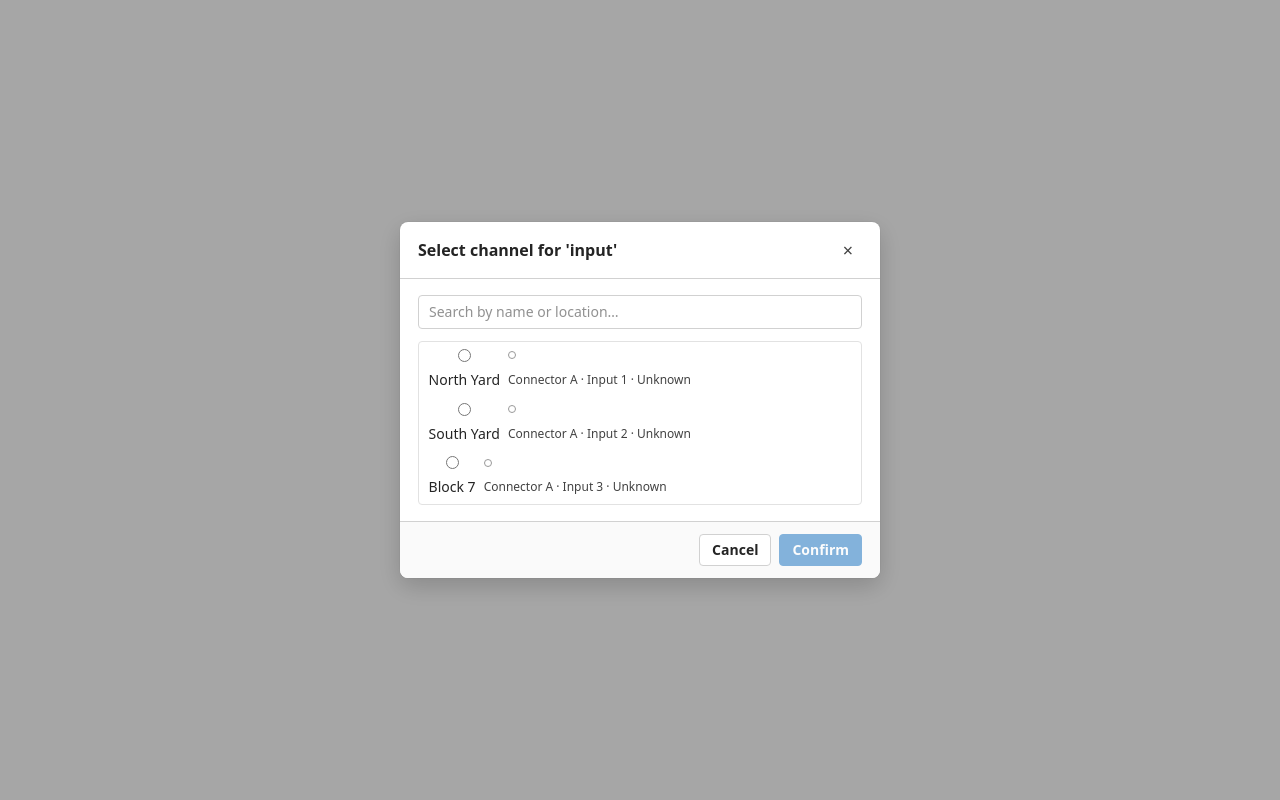
SelectChannelPicker — select mode › search filter narrows the list by name
The image size is (1280, 800).
Type "yard" into the search field named "filter channels" at (640,312), box [418,295,862,329]
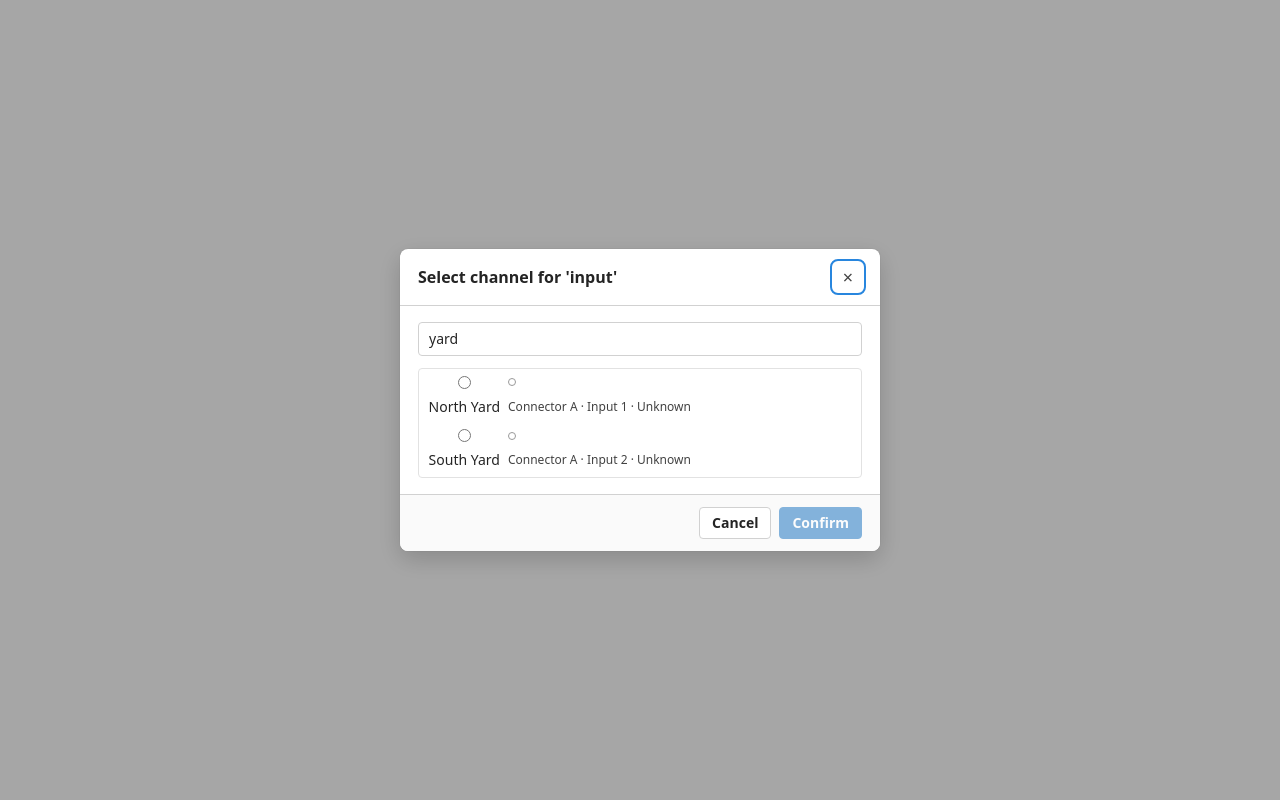
Expected: the text "North Yard" is shown, [429,397,500,417]
Expected: the text "Block 7" is gone
